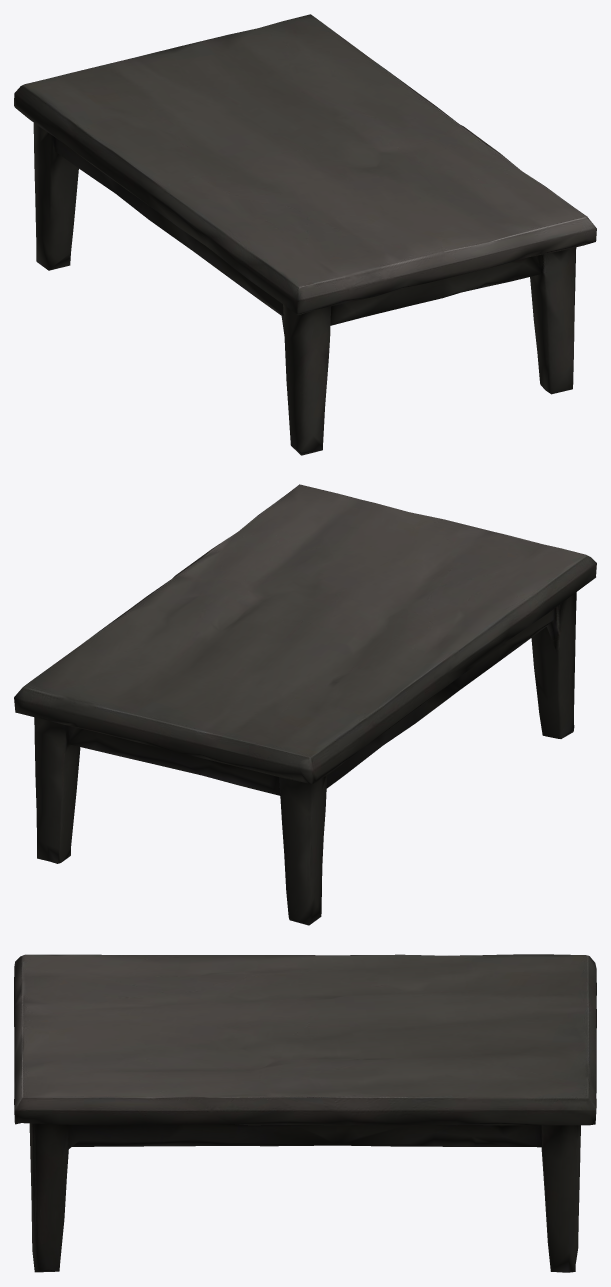
Rendered from low_table.glb.
3 views of the same model, one above another, from view 1: azimuth 30°, elevation 25°; view 2: azimuth 150°, elevation 25°; view 3: azimuth 270°, elevation 25° (orthographic). The views are drawn at different scales.
Parts seen in each view (by area): view 1: tripo_node_26d8522b-43f4-4447-b510-faa203846b00; view 2: tripo_node_26d8522b-43f4-4447-b510-faa203846b00; view 3: tripo_node_26d8522b-43f4-4447-b510-faa203846b00.
Boxes of the visible parts, bbox=[...] form: tripo_node_26d8522b-43f4-4447-b510-faa203846b00: bbox=[14, 14, 596, 455]; tripo_node_26d8522b-43f4-4447-b510-faa203846b00: bbox=[14, 484, 596, 925]; tripo_node_26d8522b-43f4-4447-b510-faa203846b00: bbox=[14, 954, 596, 1272].
Bounding box in the file's own units: 0.6086 × 0.339 × 1.
Materials: 1 (1 with a texture image).
